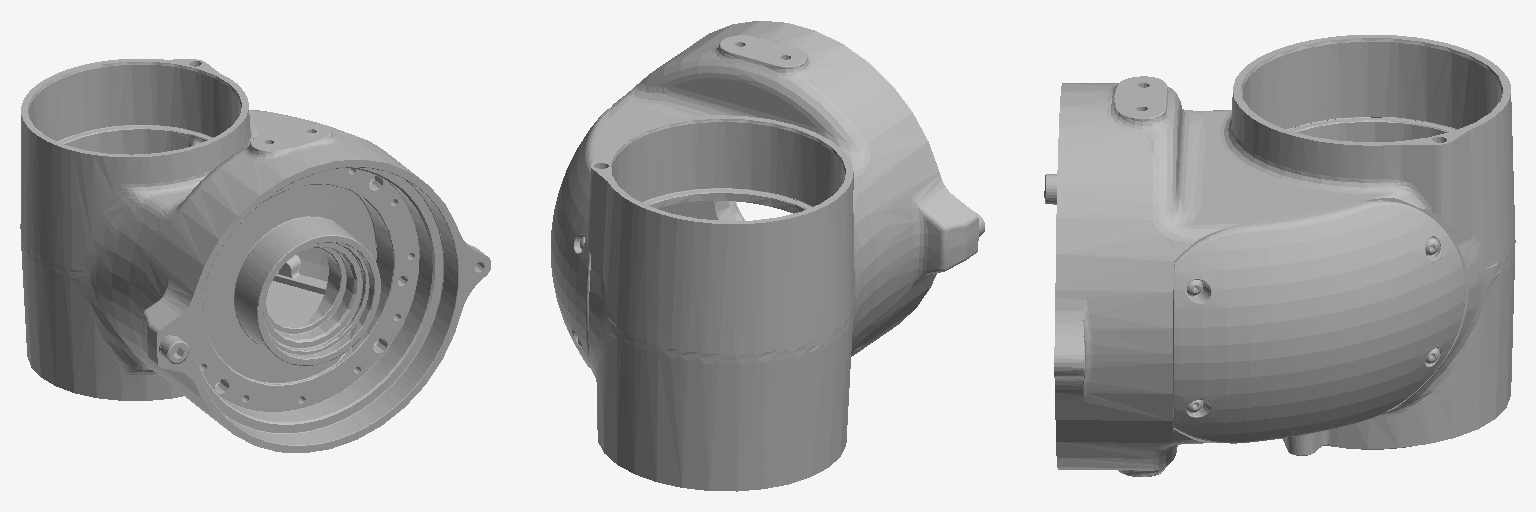
robot.urdf — gp7_robot:
<?xml version="1.0" encoding="utf-8"?>

<robot
  name="gp7_robot">


  <link name="world"/>
  <joint name="joint_w" type="fixed">
    <parent link="world"/>
    <child link="base_link" />
  </joint>
  
  <link
    name="base_link">
    <inertial>
      <origin
        xyz="-0.0661020995616514 0.000556312270044364 0.0576570103444227"
        rpy="0 0 0" />
      <mass
        value="0.271689442075899" />
      <inertia
        ixx="0.000551467943673248"
        ixy="-3.54874087127204E-06"
        ixz="-1.62511816944923E-05"
        iyy="0.000400129321443915"
        iyz="-2.07321385851125E-06"
        izz="0.000582594592679587" />
    </inertial>
    <visual>
      <origin
        xyz="0 0 0"
        rpy="0 0 0" />
      <geometry>
        <mesh
          filename="package://gp7_visualization/meshes/visual/base_link.STL" />
      </geometry>
      <material
        name="">
        <color
          rgba="0.752941176470588 0.752941176470588 0.752941176470588 1" />
      </material>
    </visual>
    <collision>
      <origin
        xyz="0 0 0"
        rpy="0 0 0" />
      <geometry>
        <mesh
          filename="package://gp7_visualization/meshes/collision/base_link.stl" />
      </geometry>
    </collision>
  </link>
  <link
    name="link_s_1">
    <inertial>
      <origin
        xyz="-0.0233610982039615 -0.0409634881495871 -0.00705078625461891"
        rpy="0 0 0" />
      <mass
        value="0.206747811978373" />
      <inertia
        ixx="0.000217192211037989"
        ixy="3.02142658957625E-09"
        ixz="-2.88241124961472E-05"
        iyy="0.000264027155022737"
        iyz="3.1166711843164E-09"
        izz="0.000175174988217507" />
    </inertial>
    <visual>
      <origin
        xyz="0 0 0"
        rpy="0 0 0" />
      <geometry>
        <mesh
          filename="package://gp7_visualization/meshes/visual/link_s_1.STL" />
      </geometry>
      <material
        name="">
        <color
          rgba="0.752941176470588 0.752941176470588 0.752941176470588 1" />
      </material>
    </visual>
    <collision>
      <origin
        xyz="0 0 0"
        rpy="0 0 0" />
      <geometry>
        <mesh
          filename="package://gp7_visualization/meshes/collision/link_s_1.stl" />
      </geometry>
    </collision>
  </link>
  <joint
    name="joint_s_1"
    type="revolute">
    <origin
      xyz="0.039986 -0.0010471 0.33"
      rpy="0 0 -0.02618" />
    <parent
      link="base_link" />
    <child
      link="link_s_1" />
    <axis
      xyz="0 0 -1" />
    <limit
      lower="-2.9671"
      upper="2.9671"
      effort="30"
      velocity="6.545" />
  </joint>
  <link
    name="link_l_2">
    <inertial>
      <origin
        xyz="-0.0153704712139654 0.0166692289806514 0.205508701542665"
        rpy="0 0 0" />
      <mass
        value="0.562008352548831" />
      <inertia
        ixx="0.0105812150782623"
        ixy="5.4546465153005E-08"
        ixz="3.7360024414014E-05"
        iyy="0.0111523147839964"
        iyz="2.33071657229751E-07"
        izz="0.00063823581235193" />
    </inertial>
    <visual>
      <origin
        xyz="0 0 0"
        rpy="0 0 0" />
      <geometry>
        <mesh
          filename="package://gp7_visualization/meshes/visual/link_l_2.STL" />
      </geometry>
      <material
        name="">
        <color
          rgba="0.752941176470588 0.752941176470588 0.752941176470588 1" />
      </material>
    </visual>
    <collision>
      <origin
        xyz="0 0 0"
        rpy="0 0 0" />
      <geometry>
        <mesh
          filename="package://gp7_visualization/meshes/collision/link_l_2.stl" />
      </geometry>
    </collision>
  </link>
  <joint
    name="joint_l_2"
    type="revolute">
    <origin
      xyz="0 0 0"
      rpy="0 0 0" />
    <parent
      link="link_s_1" />
    <child
      link="link_l_2" />
    <axis
      xyz="0 -1 0" />
    <limit
      lower="-1.1345"
      upper="2.5307"
      effort="30"
      velocity="6.545" />
  </joint>
  <link
    name="link_u_3">
    <inertial>
      <origin
        xyz="-0.000500936552424655 -0.00941969624887269 0.0218171190109101"
        rpy="0 0 0" />
      <mass
        value="0.916688715390813" />
      <inertia
        ixx="0.00313972518885877"
        ixy="2.67034756524424E-05"
        ixz="-0.000282817305723292"
        iyy="0.00272829103505119"
        iyz="-3.99457173999864E-05"
        izz="0.00216869170717903" />
    </inertial>
    <visual>
      <origin
        xyz="0 0 0"
        rpy="0 0 0" />
      <geometry>
        <mesh
          filename="package://gp7_visualization/meshes/visual/link_u_3.STL" />
      </geometry>
      <material
        name="">
        <color
          rgba="0.752941176470588 0.752941176470588 0.752941176470588 1" />
      </material>
    </visual>
    <collision>
      <origin
        xyz="0 0 0"
        rpy="0 0 0" />
      <geometry>
        <mesh
          filename="package://gp7_visualization/meshes/collision/link_u_3.stl" />
      </geometry>
    </collision>
  </link>
  <joint
    name="joint_u_3"
    type="revolute">
    <origin
      xyz="0 0 0.445"
      rpy="0 0 0" />
    <parent
      link="link_l_2" />
    <child
      link="link_u_3" />
    <axis
      xyz="0 -1 0" />
    <limit
      lower="-1.2217"
      upper="3.3161"
      effort="30"
      velocity="6.545" />
  </joint>
  <link
    name="link_r_4">
    <inertial>
      <origin
        xyz="-0.144528762363287 -0.000457848370011256 0.00100877854966697"
        rpy="0 0 0" />
      <mass
        value="0.475362712918695" />
      <inertia
        ixx="0.00070363811082682"
        ixy="-2.1462919267349E-06"
        ixz="2.28110348065367E-06"
        iyy="0.00128909280889087"
        iyz="5.50773922973421E-06"
        izz="0.00120913789427328" />
    </inertial>
    <visual>
      <origin
        xyz="0 0 0"
        rpy="0 0 0" />
      <geometry>
        <mesh
          filename="package://gp7_visualization/meshes/visual/link_r_4.STL" />
      </geometry>
      <material
        name="">
        <color
          rgba="0.752941176470588 0.752941176470588 0.752941176470588 1" />
      </material>
    </visual>
    <collision>
      <origin
        xyz="0 0 0"
        rpy="0 0 0" />
      <geometry>
        <mesh
          filename="package://gp7_visualization/meshes/collision/link_r_4.stl" />
      </geometry>
    </collision>
  </link>
  <joint
    name="joint_r_4"
    type="revolute">
    <origin
      xyz="0.32065 0 0.04"
      rpy="0 0 0" />
    <parent
      link="link_u_3" />
    <child
      link="link_r_4" />
    <axis
      xyz="-1 0 0" />
    <limit
      lower="-3.3161"
      upper="3.3161"
      effort="17"
      velocity="9.5993" />
  </joint>
  <link
    name="link_b_5">
    <inertial>
      <origin
        xyz="0.0215355985784859 -0.000865097565469207 0.000294489292992695"
        rpy="0 0 0" />
      <mass
        value="0.160644623215161" />
      <inertia
        ixx="0.000125384637745521"
        ixy="-8.52784920985105E-07"
        ixz="-1.78578173872123E-06"
        iyy="0.000141416384834468"
        iyz="1.57237201658655E-07"
        izz="0.00010333533136263" />
    </inertial>
    <visual>
      <origin
        xyz="0 0 0"
        rpy="0 0 0" />
      <geometry>
        <mesh
          filename="package://gp7_visualization/meshes/visual/link_b_5.STL" />
      </geometry>
      <material
        name="">
        <color
          rgba="0.752941176470588 0.752941176470588 0.752941176470588 1" />
      </material>
    </visual>
    <collision>
      <origin
        xyz="0 0 0"
        rpy="0 0 0" />
      <geometry>
        <mesh
          filename="package://gp7_visualization/meshes/collision/link_b_5.stl" />
      </geometry>
    </collision>
  </link>
  <joint
    name="joint_b_5"
    type="revolute">
    <origin
      xyz="0.11935 0 0"
      rpy="0 0 0" />
    <parent
      link="link_r_4" />
    <child
      link="link_b_5" />
    <axis
      xyz="-1 0 0" />
    <limit
      lower="-2.3562"
      upper="2.3562"
      effort="17"
      velocity="9.5993" />
  </joint>
  <link
    name="link_t_6">
    <inertial>
      <origin
        xyz="0.010342612733208 0.000104247977295127 -1.55781338939676E-08"
        rpy="0 0 0" />
      <mass
        value="0.0171282195454734" />
      <inertia
        ixx="6.71678663114005E-06"
        ixy="-7.75547686204302E-09"
        ixz="-6.7223545098088E-13"
        iyy="3.48368238315858E-06"
        iyz="2.65114482902148E-11"
        izz="3.55123698727653E-06" />
    </inertial>
    <visual>
      <origin
        xyz="0 0 0"
        rpy="0 0 0" />
      <geometry>
        <mesh
          filename="package://gp7_visualization/meshes/visual/link_t_6.STL" />
      </geometry>
      <material
        name="">
        <color
          rgba="0.752941176470588 0.752941176470588 0.752941176470588 1" />
      </material>
    </visual>
    <collision>
      <origin
        xyz="0 0 0"
        rpy="0 0 0" />
      <geometry>
        <mesh
          filename="package://gp7_visualization/meshes/collision/link_t_6.stl" />
      </geometry>
    </collision>
  </link>
  <joint
    name="joint_t_6"
    type="revolute">
    <origin
      xyz="0.065 0 0"
      rpy="0 0 0" />
    <parent
      link="link_b_5" />
    <child
      link="link_t_6" />
    <axis
      xyz="-1 0 0" />
    <limit
      lower="-6.1087"
      upper="6.1087"
      effort="10"
      velocity="17.453" />
  </joint>


  
</robot>

--- Render facts (derived) ---
Views: 3 orthographic renders of the robot side by side, from view 1: azimuth 30°, elevation 25°; view 2: azimuth 150°, elevation 25°; view 3: azimuth 270°, elevation 25°.
Robot: gp7_robot — 8 links, 7 joints (6 revolute, 1 fixed); root link world; default pose: all joints at 0.
Visible links, largest first — view 1: link_s_1; view 2: link_s_1; view 3: link_s_1.
Link boxes in pixels (<box>): link_s_1: <box>20,59,490,452</box>; link_s_1: <box>551,21,984,491</box>; link_s_1: <box>1044,35,1515,476</box>.
Size in the robot's own frame: 0.1972 by 0.1994 by 0.1671 metres.
Meshes: 7 distinct files referenced, 1 mesh visuals loaded (1 binary STL); not drawn: 6 (reference not matched to a file when rendering).